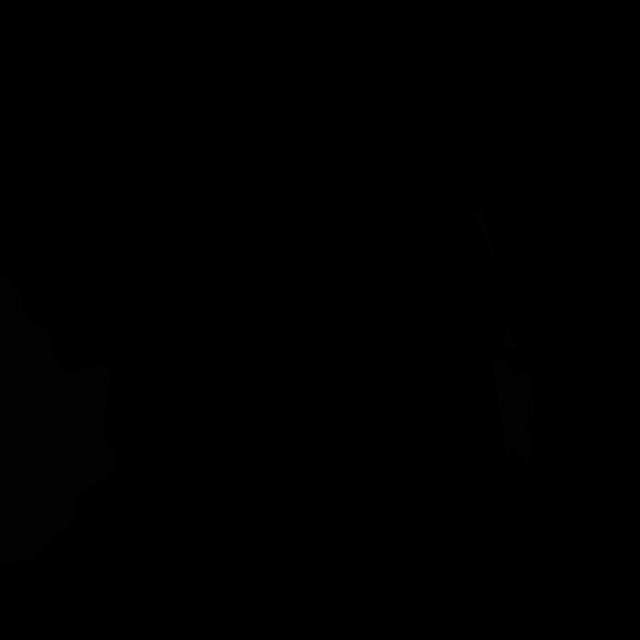cardboard: (0, 276, 118, 565), (492, 359, 534, 463), (472, 209, 497, 267), (493, 321, 519, 353)
